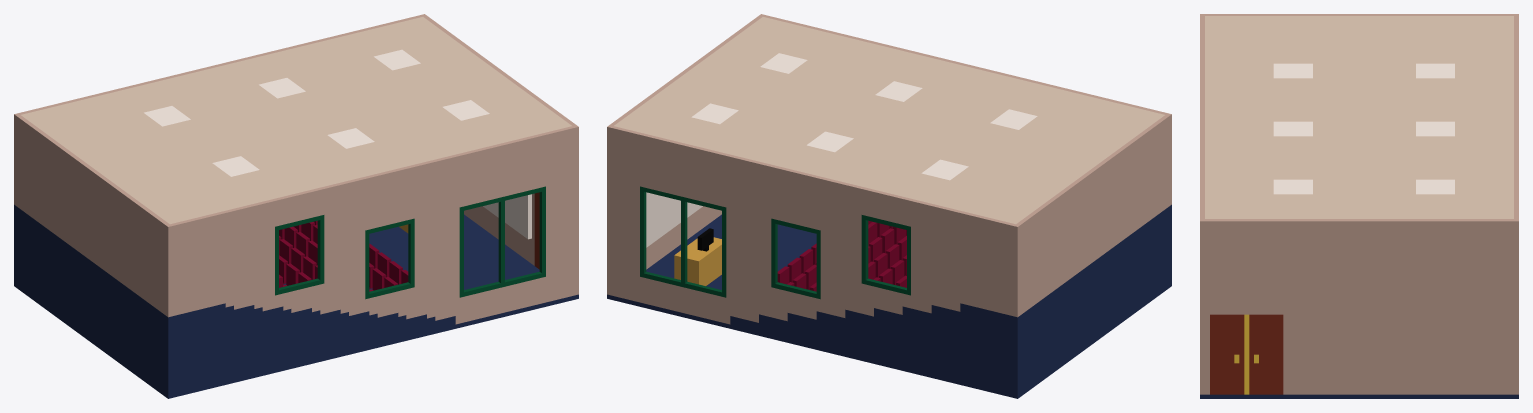
Rendered from class-room.obj.
3 renders of one model, left to right at view 1: azimuth 30°, elevation 25°; view 2: azimuth 150°, elevation 25°; view 3: azimuth 270°, elevation 25°, orthographic. The views are drawn at different scales.
Size of the model in its own units: 100 by 40 by 65.
1 material, 1 textured.
